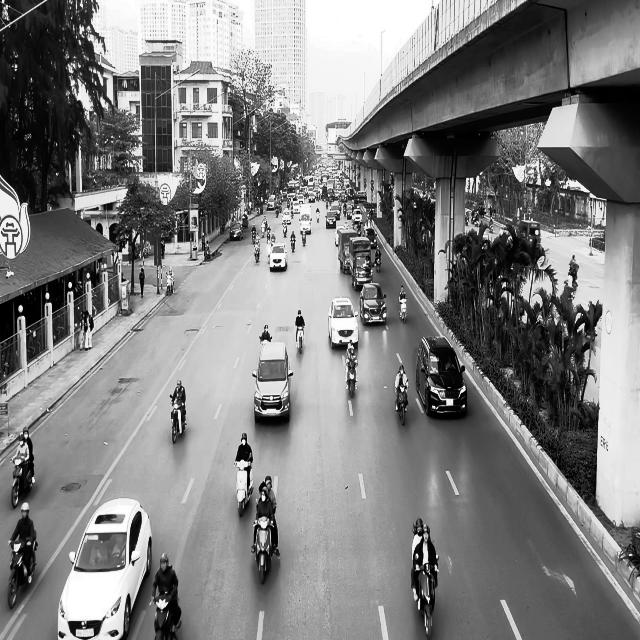bus: (517, 221, 541, 250)
car: (57, 498, 152, 640), (416, 336, 467, 418), (252, 340, 293, 423), (328, 296, 358, 349), (359, 282, 387, 325), (268, 242, 288, 271), (229, 221, 243, 241)
motorbike: (7, 536, 38, 609), (414, 556, 439, 638), (152, 588, 181, 639), (253, 516, 274, 584), (10, 454, 34, 508), (234, 458, 254, 516), (170, 395, 187, 444), (394, 381, 408, 426), (345, 358, 358, 398), (296, 324, 304, 354), (399, 294, 407, 323), (374, 252, 382, 272), (204, 241, 211, 261), (290, 235, 296, 252)
